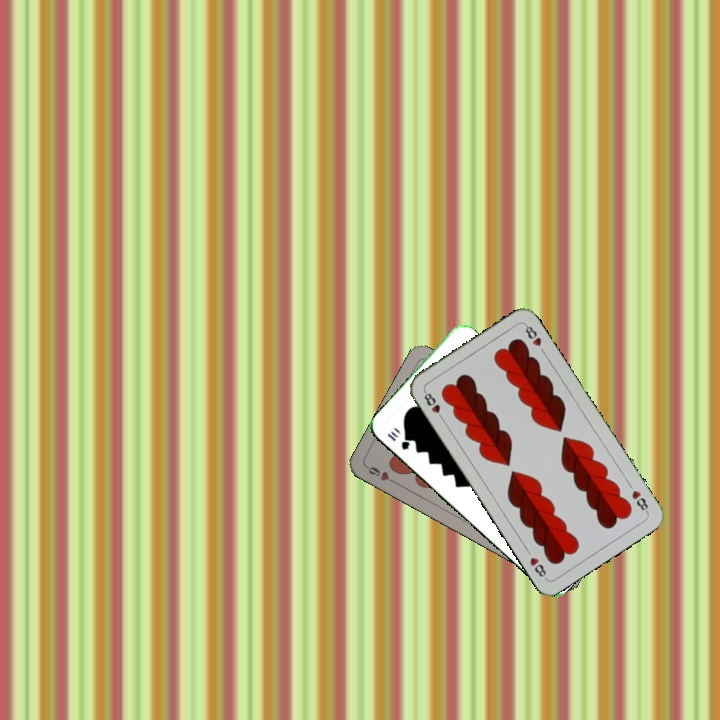G10: (383, 426, 413, 452)
H8: (420, 387, 447, 423), (628, 486, 651, 515)
H9: (362, 462, 400, 487)
